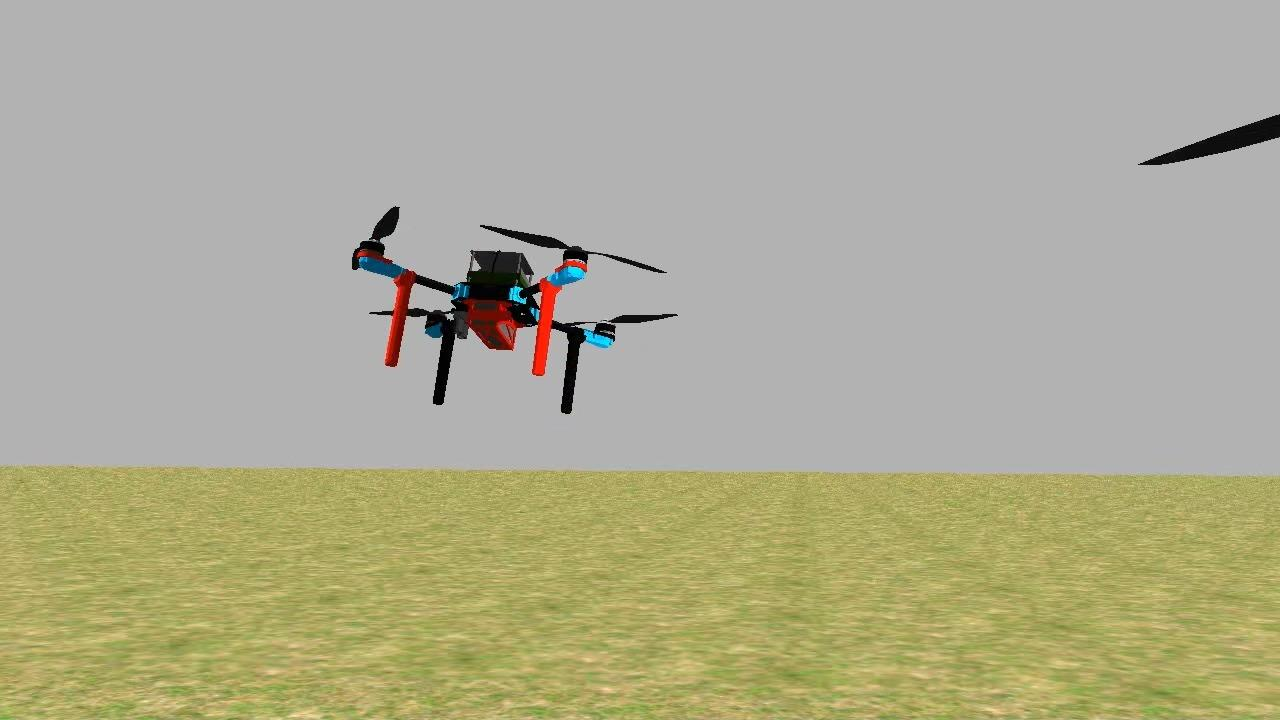UAV: (346, 212, 634, 420)
